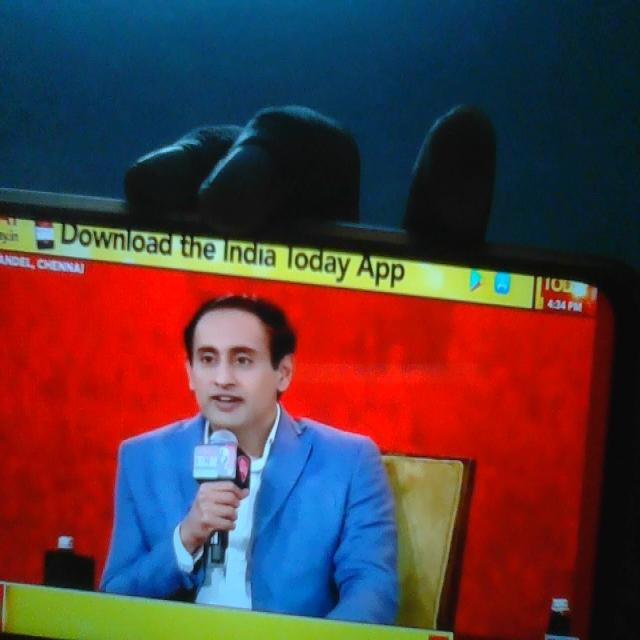fake: (189, 266, 288, 454)
